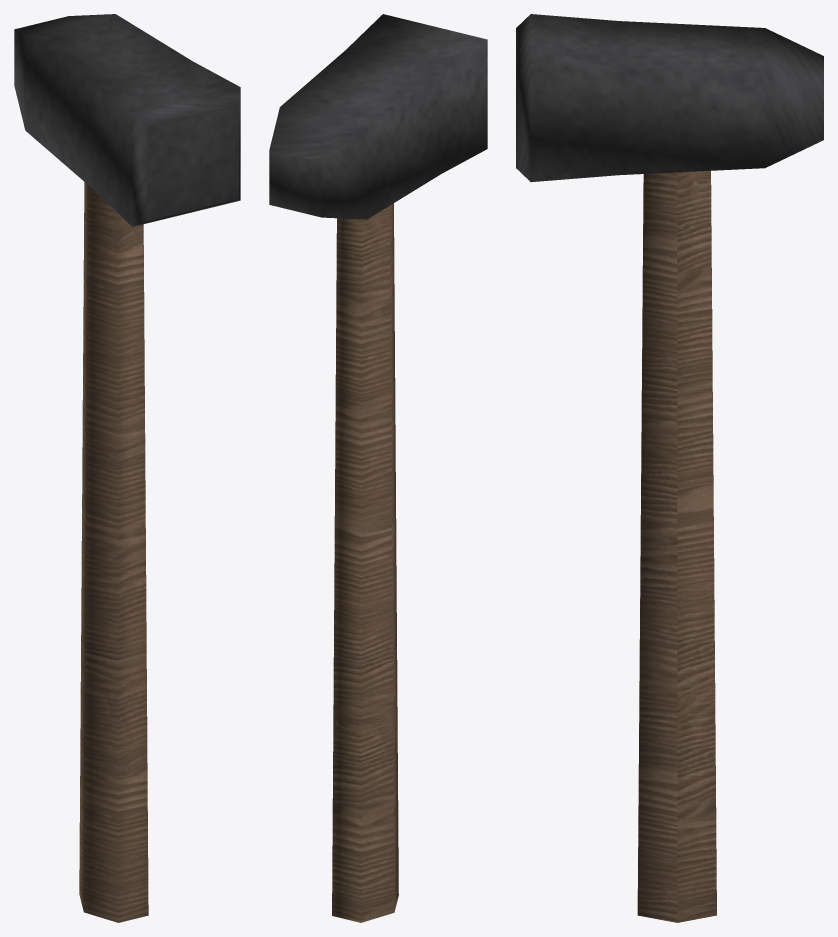
The model's file is it_hammer.glb.
The picture shows the model from 3 angles, left to right: view 1: azimuth 30°, elevation 25°; view 2: azimuth 150°, elevation 25°; view 3: azimuth 270°, elevation 25°; orthographic projection. The views are drawn at different scales.
Visible parts, largest first — view 1: it_hammer_lod0; view 2: it_hammer_lod0; view 3: it_hammer_lod0.
Boxes of the visible parts, x1,y1,x2,y2 form: it_hammer_lod0: [14, 14, 240, 922]; it_hammer_lod0: [269, 14, 487, 922]; it_hammer_lod0: [516, 14, 823, 922].
Size of what is drawn, in the model's own units: 0.0432 by 0.3266 by 0.105.
2 materials, 2 textured.
